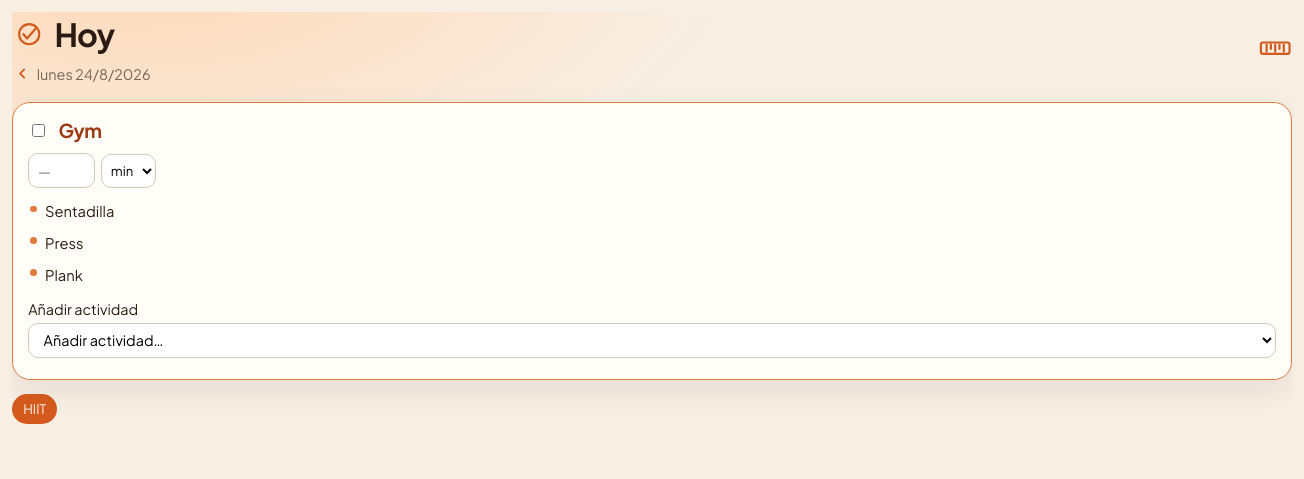
Test: Hoy › deja ver la sesión del día con el contador HIIT abierto
The image size is (1304, 479).
Click the button "HIIT" at x=35, y=409, box [12,394,58,424]
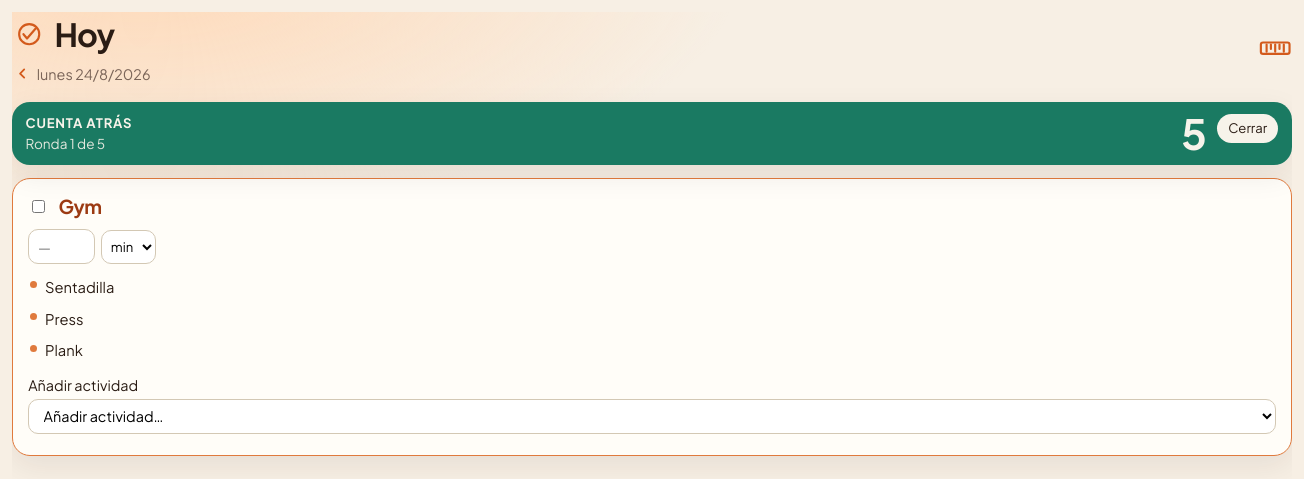
Check: the heading "Gym" is shown, box [59,194,101,218]
Check: the element named "Contador HIIT" is shown, box [12,102,1292,165]
